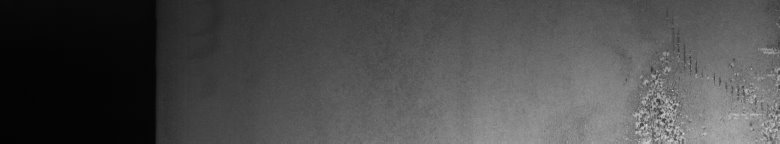hc: (627, 28, 776, 136)
